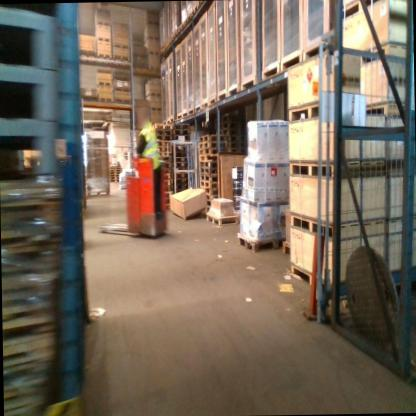pallet: (146, 0, 203, 71), (238, 233, 286, 253), (283, 241, 302, 262), (198, 134, 227, 143), (198, 148, 227, 156), (219, 112, 243, 121), (198, 141, 227, 148), (220, 127, 244, 135), (220, 120, 244, 128), (199, 185, 218, 195), (152, 122, 173, 131), (144, 34, 160, 45), (143, 19, 159, 30), (199, 153, 217, 162), (200, 179, 218, 188), (87, 190, 109, 197), (200, 173, 217, 182), (227, 140, 246, 148), (200, 166, 217, 174), (228, 134, 245, 142), (79, 49, 95, 57), (199, 160, 217, 167), (113, 86, 131, 93), (172, 122, 190, 129), (160, 155, 172, 165), (113, 97, 130, 104), (81, 95, 98, 102), (227, 147, 246, 153), (97, 80, 113, 87), (95, 35, 111, 42), (96, 51, 112, 58), (156, 140, 172, 147), (191, 3, 199, 17), (177, 21, 186, 33), (172, 134, 190, 140), (157, 145, 172, 152), (112, 54, 129, 60), (112, 43, 129, 49), (155, 129, 172, 135), (172, 128, 189, 134), (158, 150, 172, 157), (206, 193, 218, 201), (98, 96, 114, 102), (145, 92, 161, 98), (156, 135, 172, 141), (175, 176, 188, 183), (96, 20, 110, 26), (146, 50, 160, 56), (185, 13, 192, 25), (176, 182, 188, 189), (175, 145, 187, 152), (174, 160, 187, 166), (148, 106, 161, 112), (165, 183, 173, 192), (175, 170, 187, 176), (175, 156, 187, 162), (172, 29, 178, 40), (175, 151, 186, 157), (164, 167, 172, 175), (165, 173, 173, 180), (165, 191, 173, 198), (167, 36, 172, 46), (164, 162, 172, 168), (165, 178, 173, 184), (109, 165, 121, 169), (109, 168, 121, 172), (206, 200, 211, 208), (109, 176, 119, 180), (110, 179, 119, 183), (165, 197, 170, 204), (163, 43, 167, 51), (109, 171, 119, 174), (109, 174, 119, 177), (160, 48, 164, 54)
pallet_truck: (95, 154, 168, 238)
